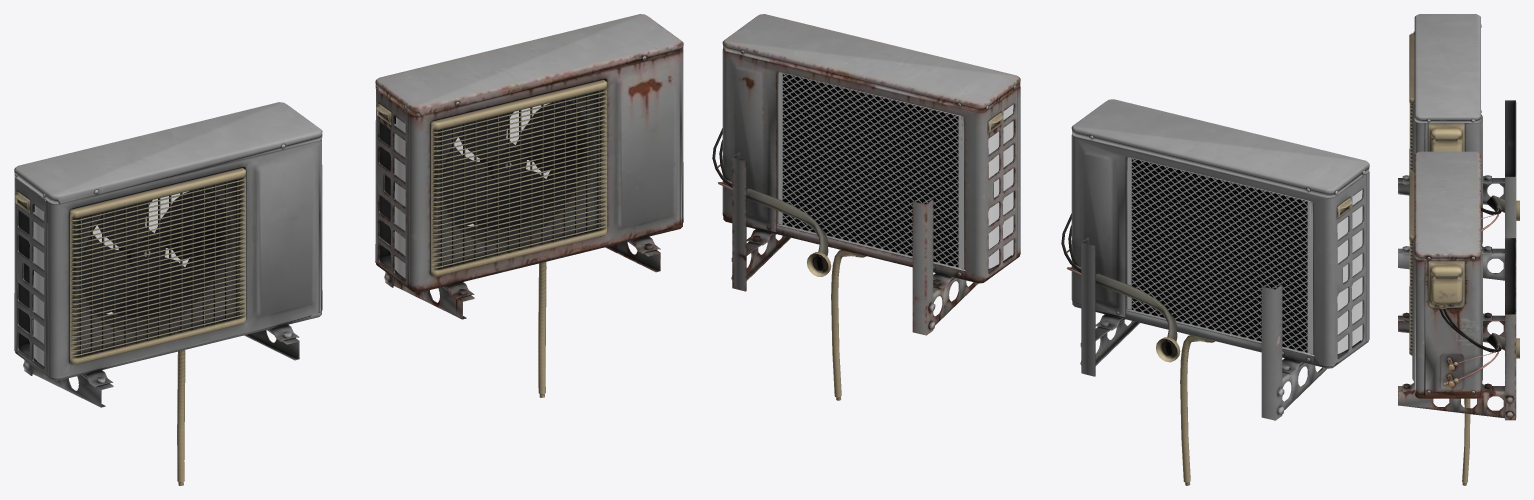
The model's file is exterior_aircon_unit.glb.
3 views of the same model, side by side, from view 1: azimuth 30°, elevation 25°; view 2: azimuth 150°, elevation 25°; view 3: azimuth 270°, elevation 25° (orthographic). The views are drawn at different scales.
Visible parts, largest first — view 1: exterior_aircon_unit, exterior_aircon_unit_rusted; view 2: exterior_aircon_unit, exterior_aircon_unit_rusted; view 3: exterior_aircon_unit_rusted, exterior_aircon_unit.
Part boxes in pixels (box(x1,y1,x2,y2)): exterior_aircon_unit: box(14, 102, 322, 485); exterior_aircon_unit_rusted: box(375, 14, 683, 397); exterior_aircon_unit: box(1061, 99, 1369, 485); exterior_aircon_unit_rusted: box(712, 14, 1020, 400); exterior_aircon_unit_rusted: box(1398, 151, 1519, 485); exterior_aircon_unit: box(1398, 14, 1519, 280).
Size of the model in its own units: 1.8 by 0.9279 by 0.3742.
4 materials, 4 textured.
